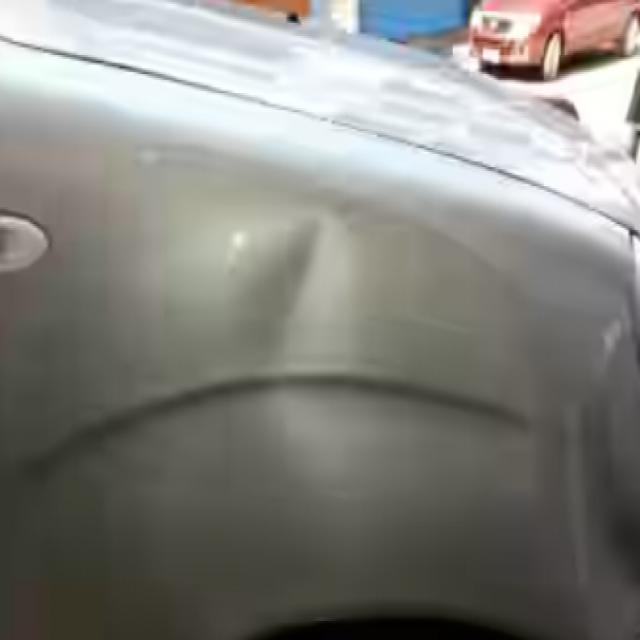dents: (258, 190, 350, 403)
